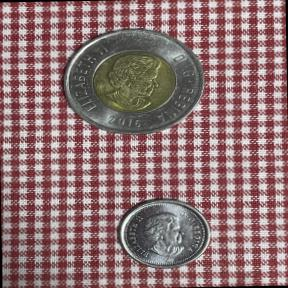coin: (56, 26, 210, 142), (112, 194, 215, 272)
